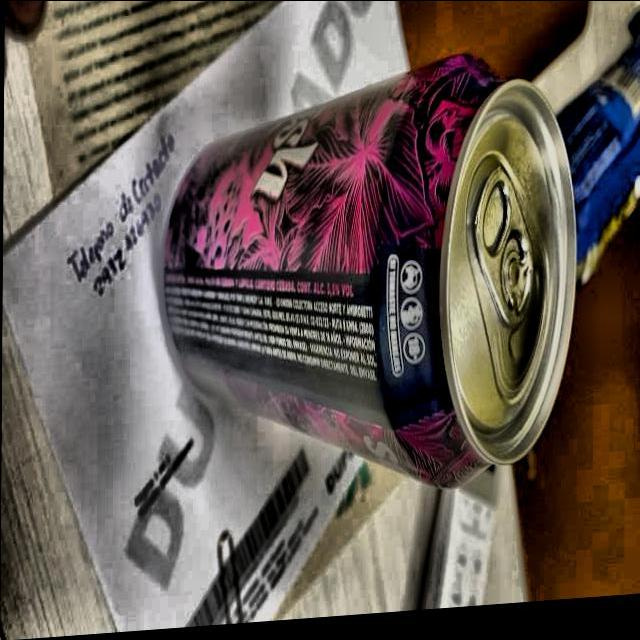litter: (156, 47, 584, 518)
